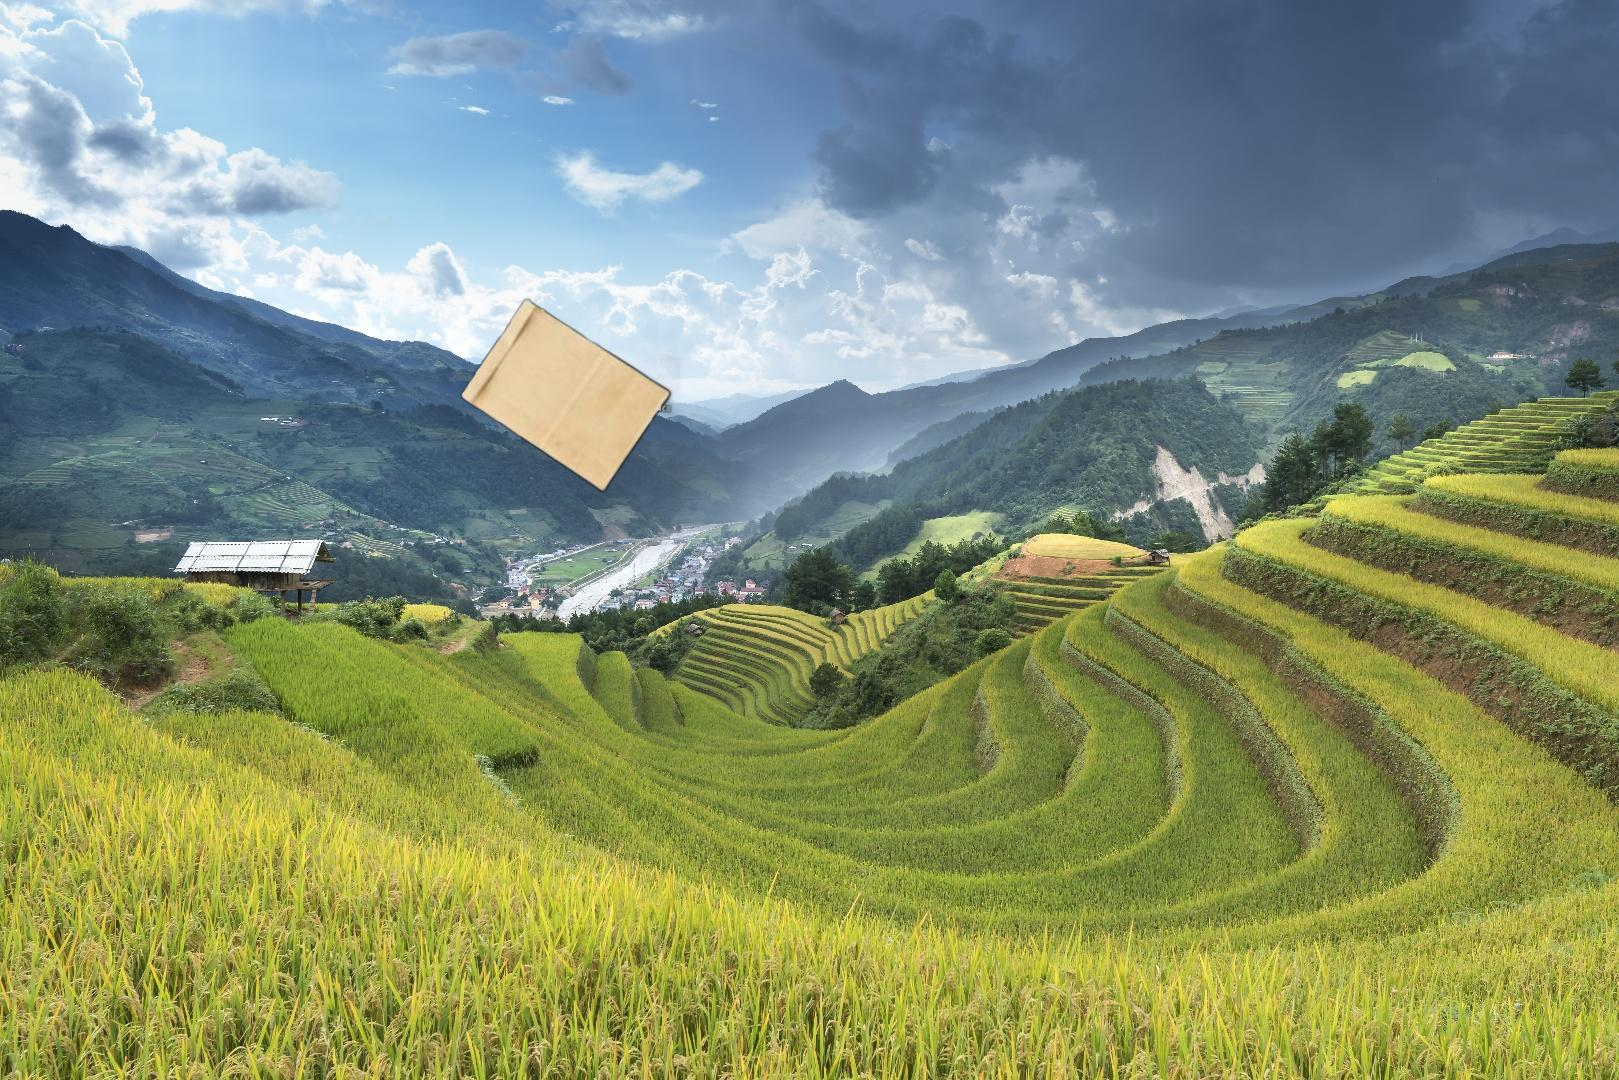paper-bag: (458, 295, 712, 569)
